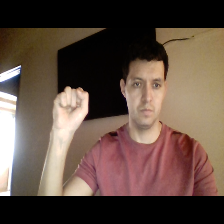9D: (48, 83, 91, 134)
